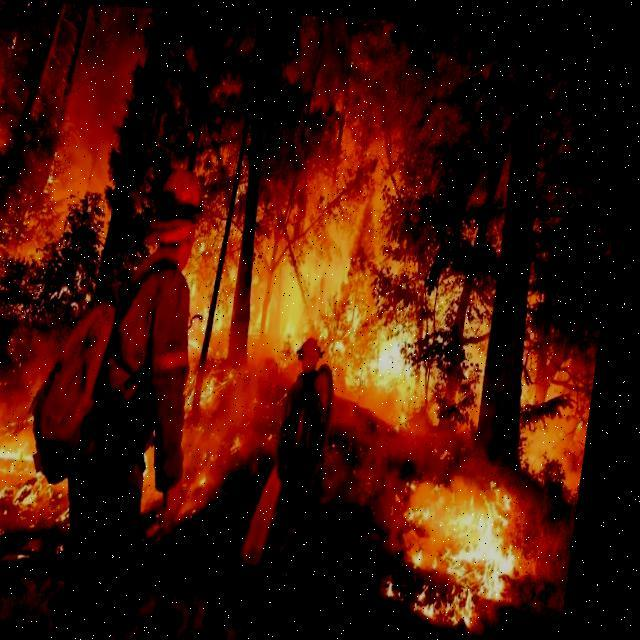Fire: (183, 152, 462, 385), (401, 440, 542, 628), (0, 374, 100, 576)
